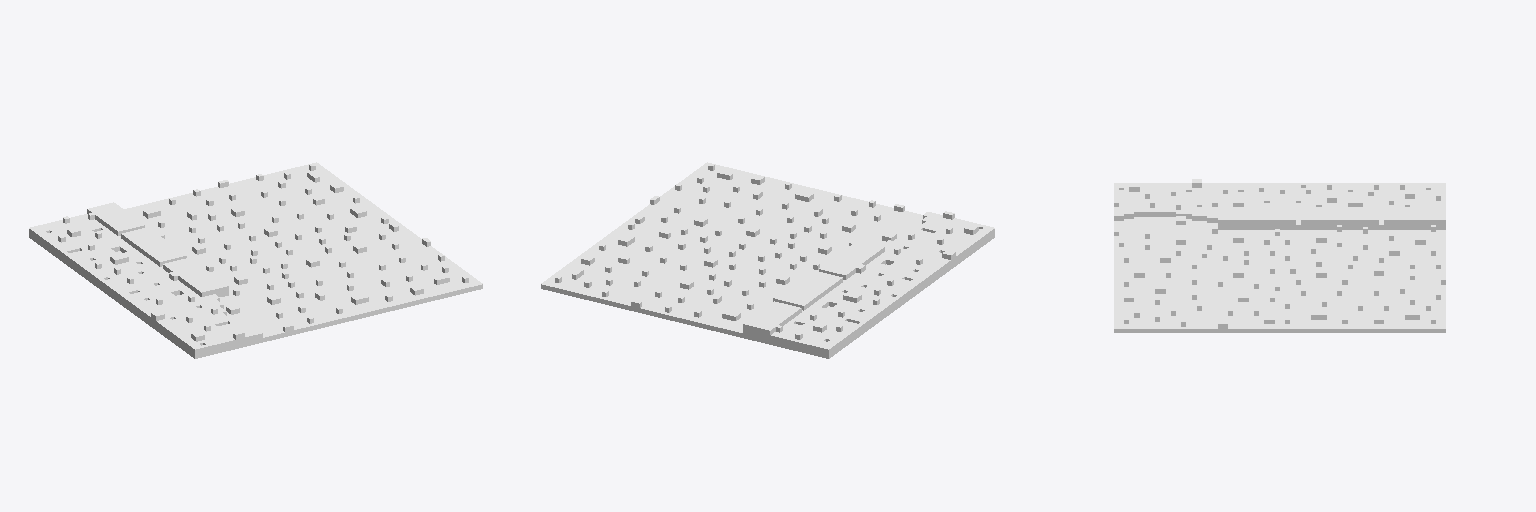
Rendered from Transition_2.obj.
The picture shows the model from 3 angles: view 1: azimuth 30°, elevation 25°; view 2: azimuth 150°, elevation 25°; view 3: azimuth 270°, elevation 25°; orthographic projection.
Parts seen in each view (by area): view 1: Transition_2; view 2: Transition_2; view 3: Transition_2.
Boxes of the visible parts, x1=… form: Transition_2: x1=29, y1=162, x2=482, y2=358; Transition_2: x1=541, y1=162, x2=994, y2=358; Transition_2: x1=1114, y1=179, x2=1445, y2=332.
Size of the model in its own units: 1 by 0.0469 by 1.